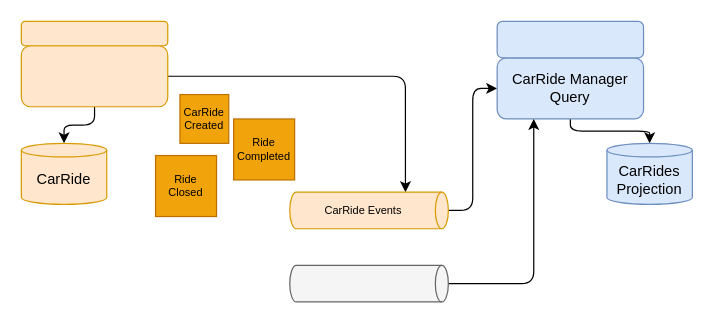
The diagram is 714 pixels wide and 323 high, and some of its shapes have lost their labels. Here are the shapes that lost their labels. From the top down, the centre of each, then its label:
At point 94,33: "CarRide CRUD APIs".
At point 570,39: "CarRide Query APIs".
At point 94,76: "CarRide Manager Command".
At point 368,283: "Customer Events".
